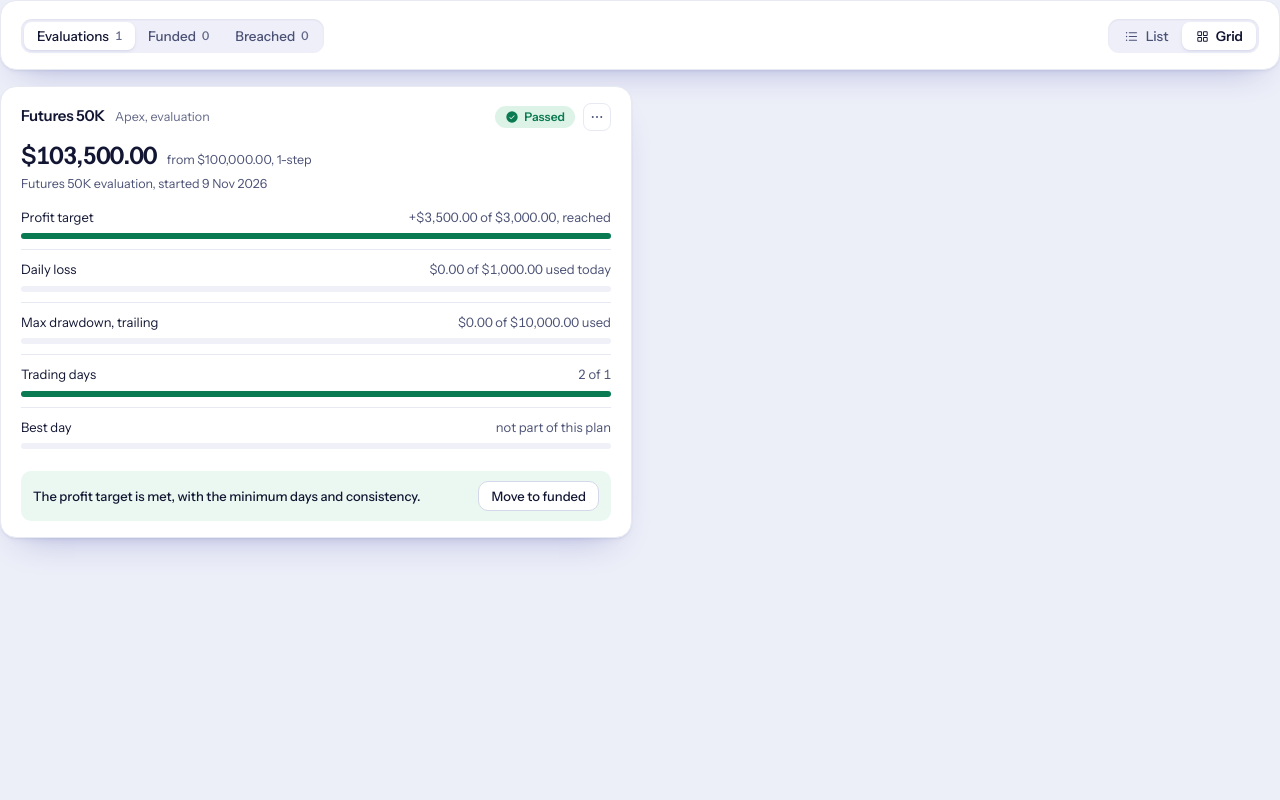
Test: a target met on the last evaluation step offers Move to funded, which asks first and then moves the challenge to funded and active
Click the button "Move to funded": (539, 496) [478, 481, 599, 511]
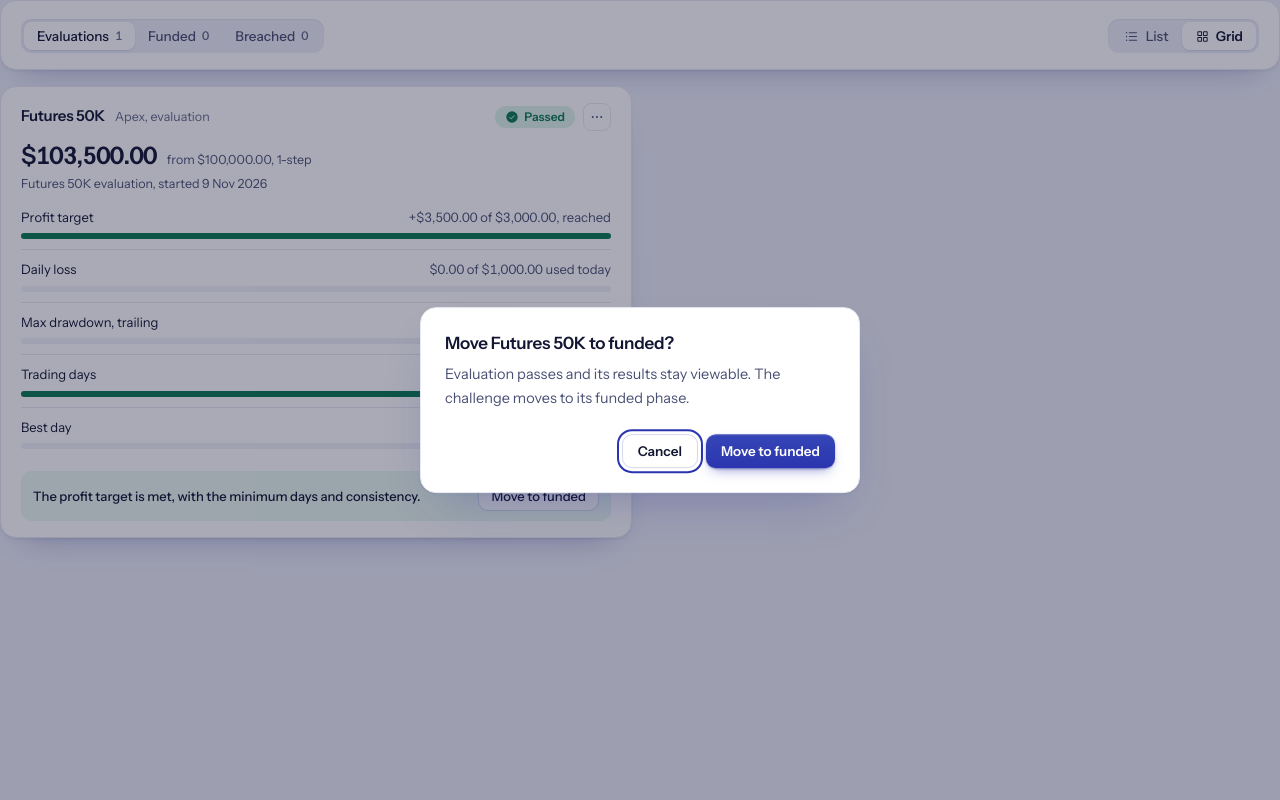
Click the button "Move to funded": (770, 451) [706, 434, 835, 468]
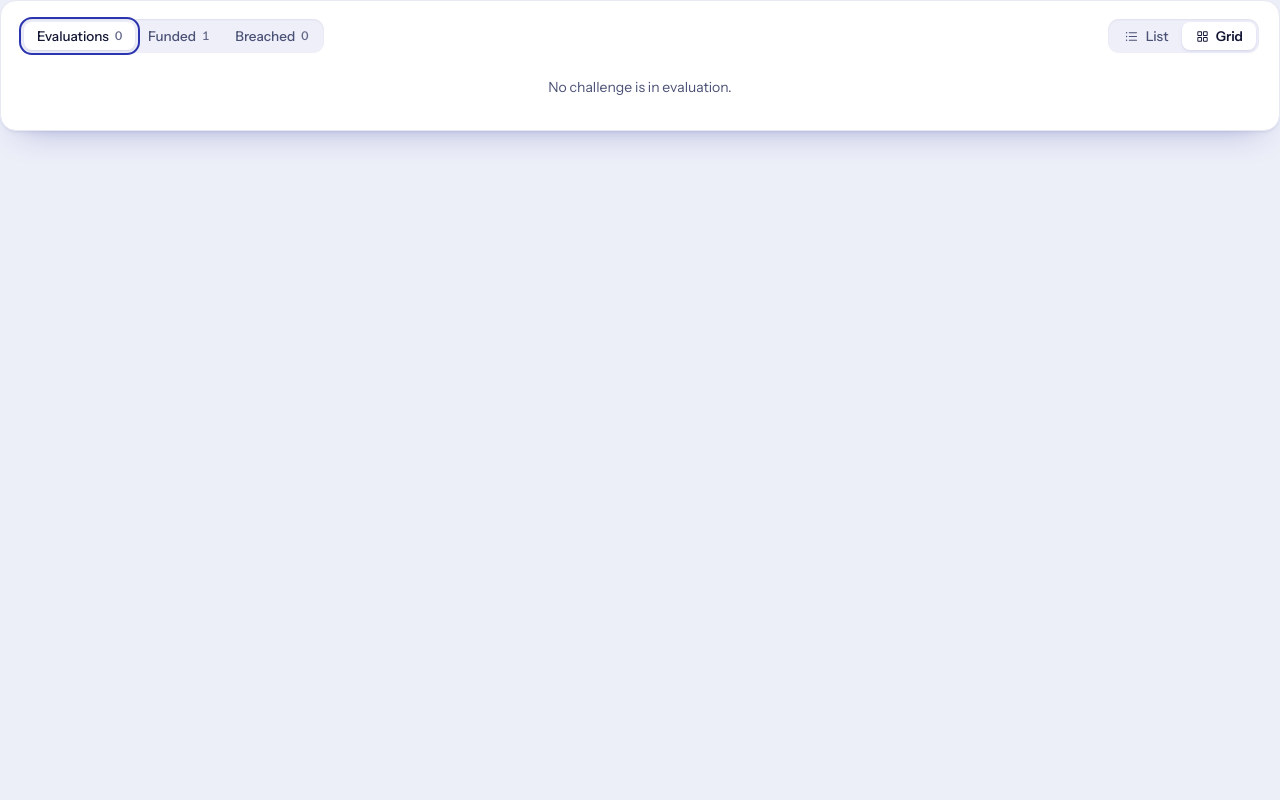
Now the tab "Funded 1" is shown, box [135, 22, 222, 50]
